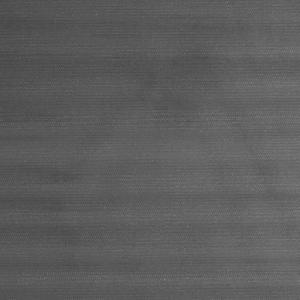Wrinkle: (1, 147, 300, 300)
